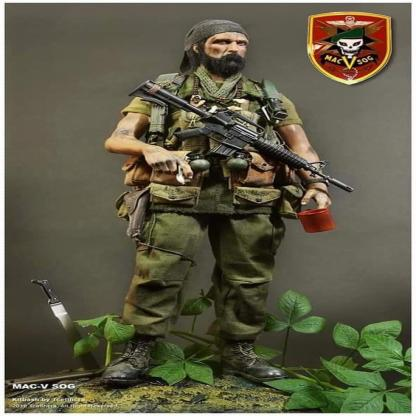Grenade: (223, 152, 250, 174), (187, 153, 212, 171)
Gun: (127, 79, 354, 194)
Knife: (29, 277, 103, 375), (263, 79, 291, 120)
